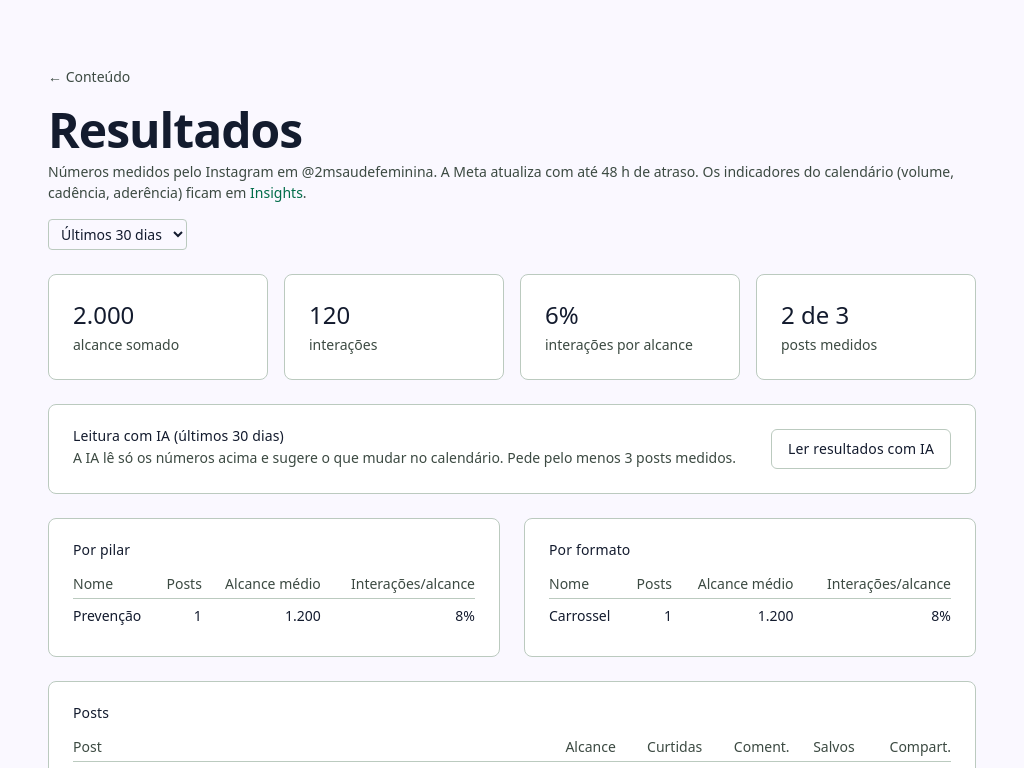
it: pedir a leitura com poucos posts medidos mostra o motivo do servidor
The width and height of the screenshot is (1024, 768).
Click the button "Ler resultados com IA".
click(861, 449)  # box [771,429,951,469]
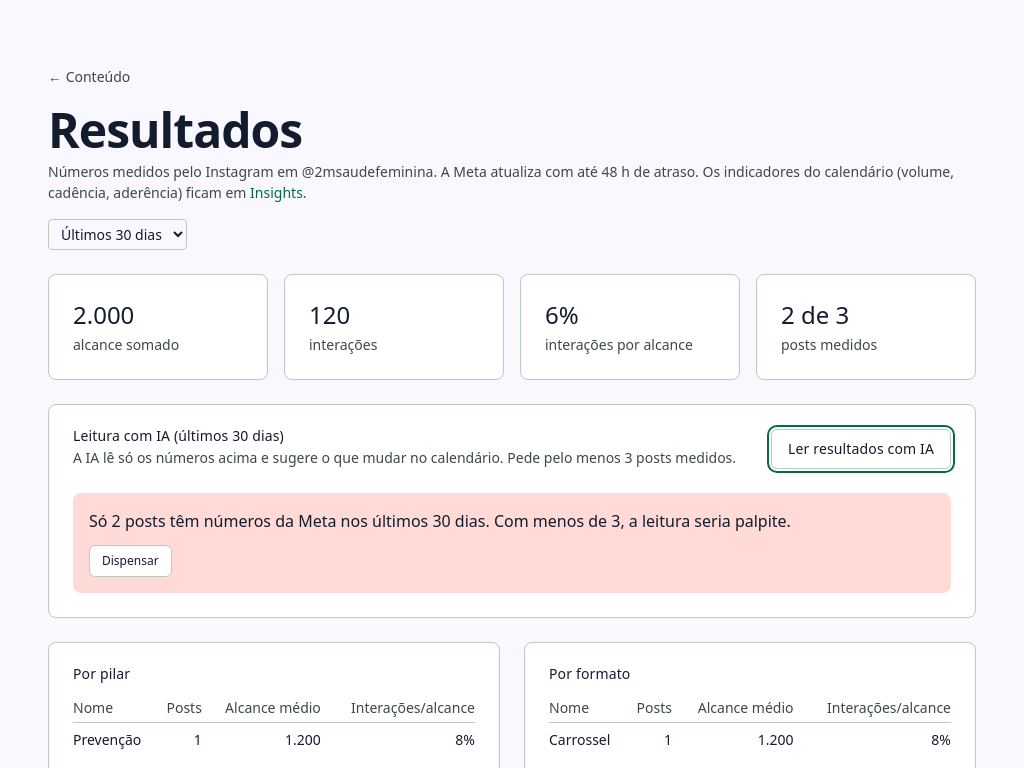
expect the message shows "a leitura seria palpite": met, box [89,510,791,532]
